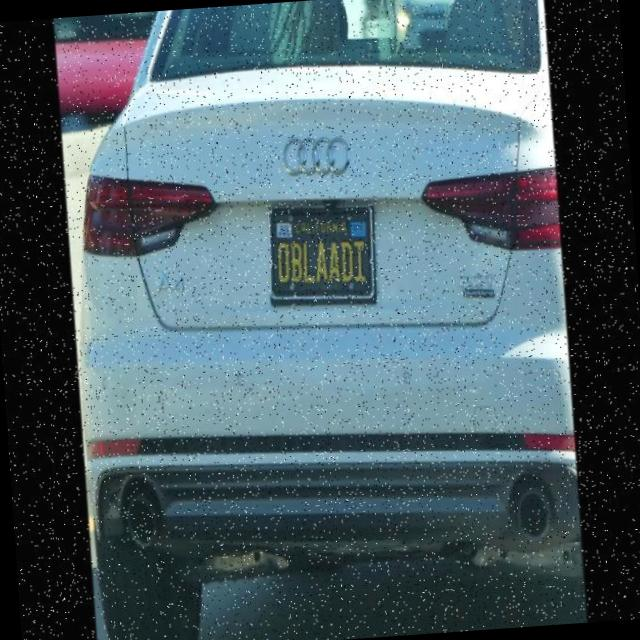LicensePlate: (268, 201, 380, 303)
